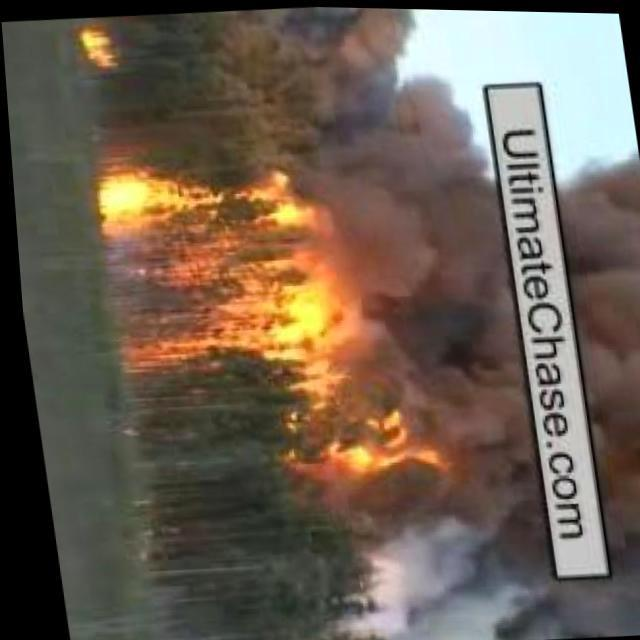fire: (82, 156, 344, 374), (284, 414, 452, 484), (75, 30, 117, 70)
